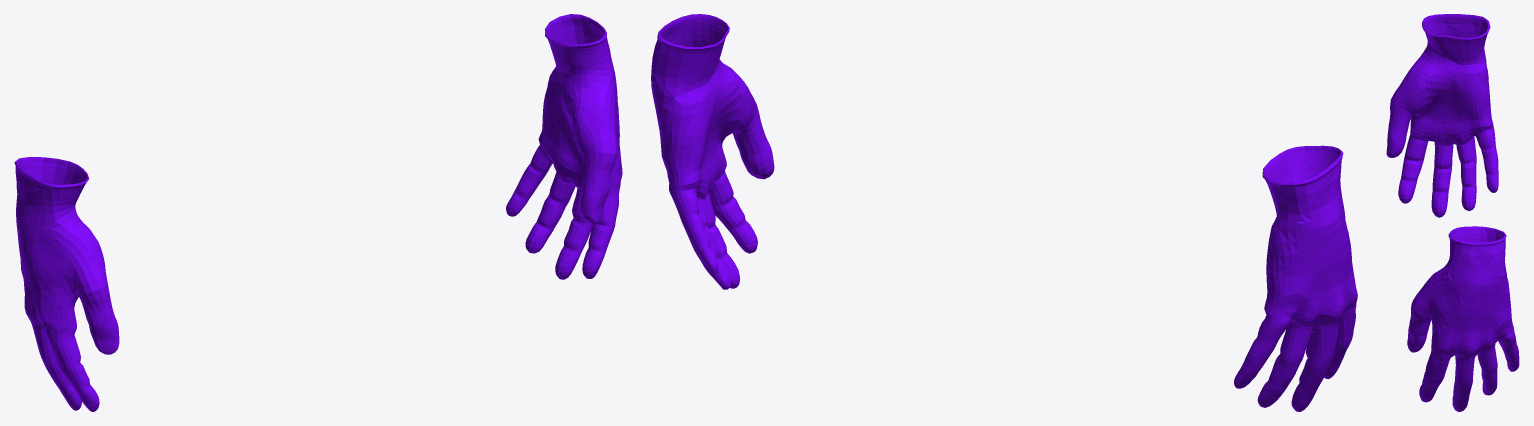
File: gloves_01.obj
3 views of the same model, side by side, from view 1: azimuth 30°, elevation 25°; view 2: azimuth 150°, elevation 25°; view 3: azimuth 270°, elevation 25° (orthographic). The views are drawn at different scales.
Parts seen in each view (by area): view 1: Glove001_Mesh.025, Glove_Mesh.024; view 2: Glove_Mesh.024, Glove001_Mesh.025; view 3: Glove_Mesh.024, Glove001_Mesh.025.
Boxes of the visible parts, box(x1,y1,x2,y2) form: Glove001_Mesh.025: box(506, 14, 622, 279); Glove_Mesh.024: box(14, 157, 119, 411); Glove_Mesh.024: box(1234, 145, 1357, 411); Glove001_Mesh.025: box(651, 14, 774, 289); Glove_Mesh.024: box(1386, 14, 1498, 217); Glove001_Mesh.025: box(1407, 226, 1519, 411).
Bounding box in the file's own units: 5.21 × 1.97 × 1.25.
